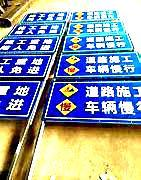sign: (51, 80, 141, 122), (60, 55, 140, 77), (63, 36, 133, 51), (1, 82, 32, 115), (1, 55, 47, 75), (69, 23, 126, 35), (3, 38, 54, 51), (71, 10, 119, 21), (11, 25, 61, 35), (23, 12, 65, 20)
